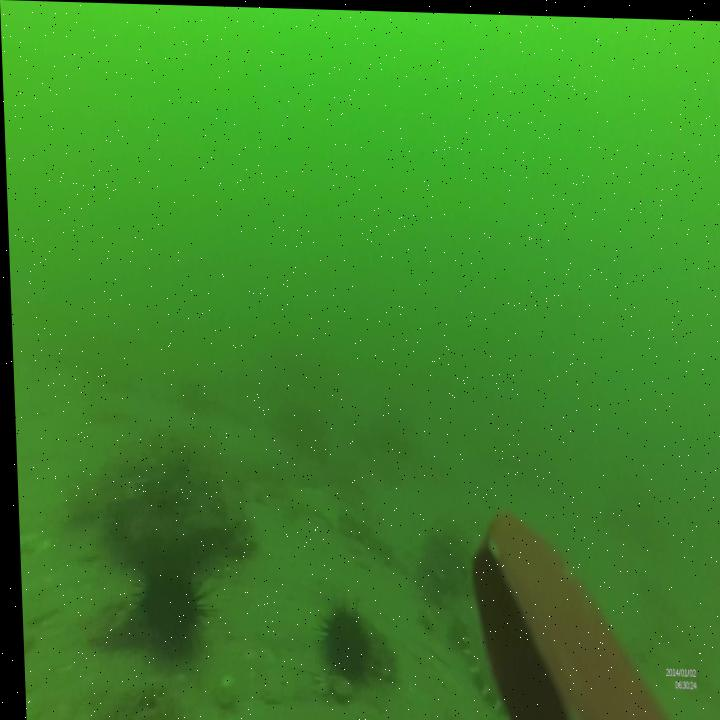echinus: (129, 557, 215, 651), (313, 594, 379, 687)
holothurian: (452, 595, 521, 719)
